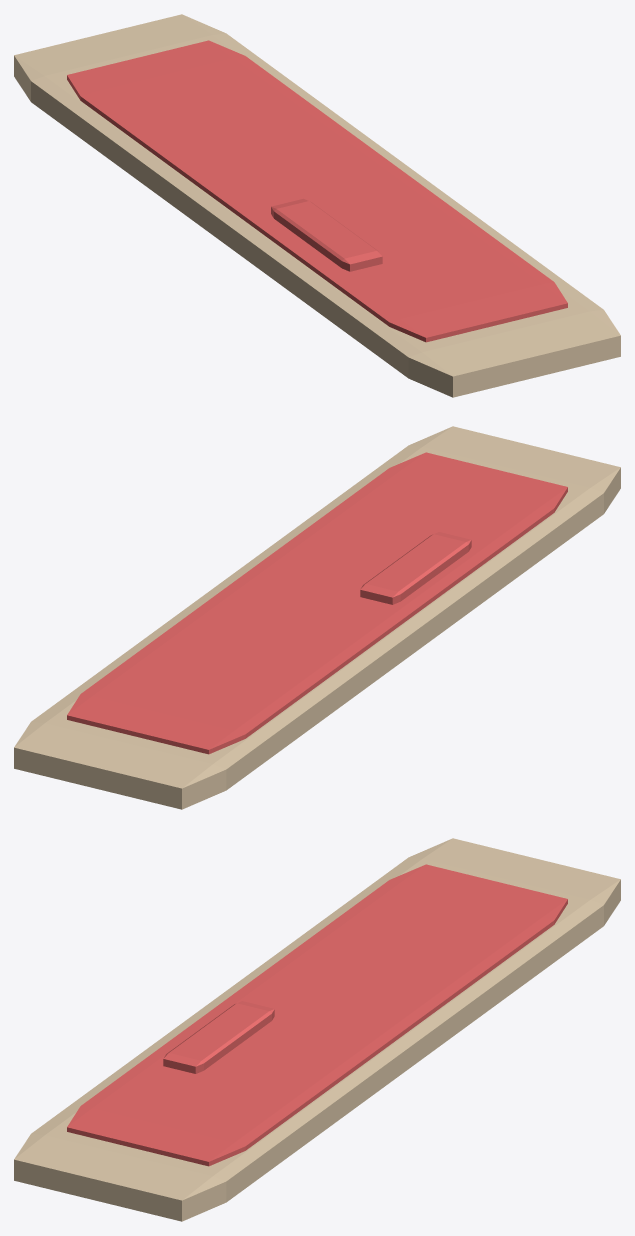
File: b16_disposable_plastic_spoon.glb
3 views of the same model, one above another, from view 1: azimuth 30°, elevation 25°; view 2: azimuth 150°, elevation 25°; view 3: azimuth 330°, elevation 25° (orthographic).
Visible parts, largest first — view 1: b16_disposable_plastic_spoon; view 2: b16_disposable_plastic_spoon; view 3: b16_disposable_plastic_spoon.
Boxes of the visible parts, x1,y1,x2,y2 form: b16_disposable_plastic_spoon: [14, 14, 620, 397]; b16_disposable_plastic_spoon: [14, 426, 620, 809]; b16_disposable_plastic_spoon: [14, 838, 620, 1221].
Bounding box in the file's own units: 0.046 × 0.01 × 0.179.
